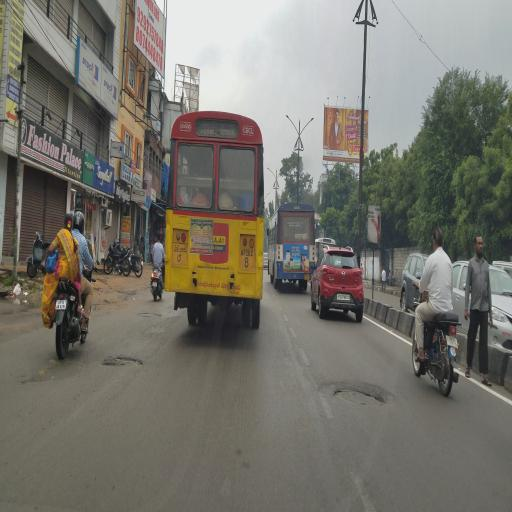street_light_0: (280, 112, 300, 150), (299, 113, 318, 151), (262, 157, 278, 191)
